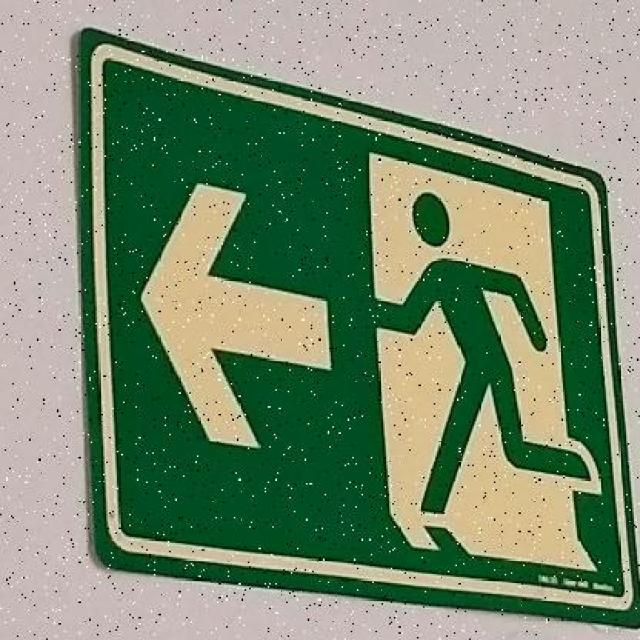exit_sign: (54, 2, 639, 636)
